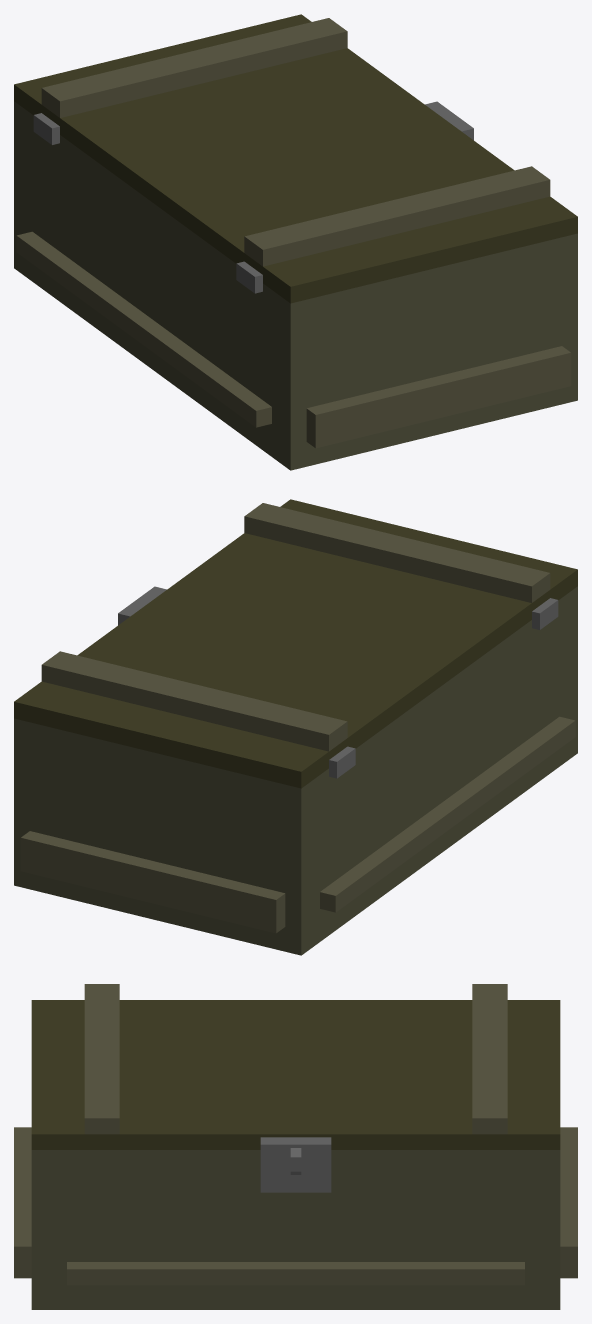
The model's file is caja_municion.fbx.
The picture shows the model from 3 angles, top to bottom: view 1: azimuth 30°, elevation 25°; view 2: azimuth 150°, elevation 25°; view 3: azimuth 270°, elevation 25°; orthographic projection. The views are drawn at different scales.
Visible parts, largest first — view 1: Cube, Cube.003, Cube.009, Cube.001, Cube.002, Cube.011, Cube.005, Cube.004; view 2: Cube, Cube.003, Cube.010, Cube.002, Cube.001, Cube.011, Cube.004, Cube.005; view 3: Cube, Cube.003, Cube.006, Cube.002, Cube.001, Cube.007, Cube.009, Cube.010.
Part boxes in pixels (left/top/right/bottom): Cube: left=14, top=101, right=577, bottom=470; Cube.003: left=14, top=14, right=577, bottom=303; Cube.009: left=306, top=346, right=571, bottom=448; Cube.001: left=244, top=166, right=550, bottom=266; Cube.002: left=41, top=18, right=347, bottom=117; Cube.011: left=16, top=231, right=271, bottom=427; Cube.005: left=236, top=261, right=262, bottom=293; Cube.004: left=33, top=113, right=59, bottom=144; Cube: left=14, top=586, right=577, bottom=955; Cube.003: left=14, top=499, right=577, bottom=788; Cube.010: left=20, top=831, right=285, bottom=933; Cube.002: left=41, top=651, right=347, bottom=751; Cube.001: left=244, top=503, right=550, bottom=602; Cube.011: left=320, top=716, right=575, bottom=912; Cube.004: left=329, top=746, right=355, bottom=778; Cube.005: left=532, top=598, right=558, bottom=629; Cube: left=31, top=1150, right=560, bottom=1309; Cube.003: left=31, top=1000, right=560, bottom=1149; Cube.006: left=67, top=1262, right=524, bottom=1285; Cube.002: left=472, top=984, right=507, bottom=1134; Cube.001: left=84, top=984, right=119, bottom=1134; Cube.007: left=260, top=1137, right=331, bottom=1192; Cube.009: left=14, top=1127, right=31, bottom=1278; Cube.010: left=560, top=1127, right=577, bottom=1278.
Size of the model in its own units: 204 by 120 by 320.
